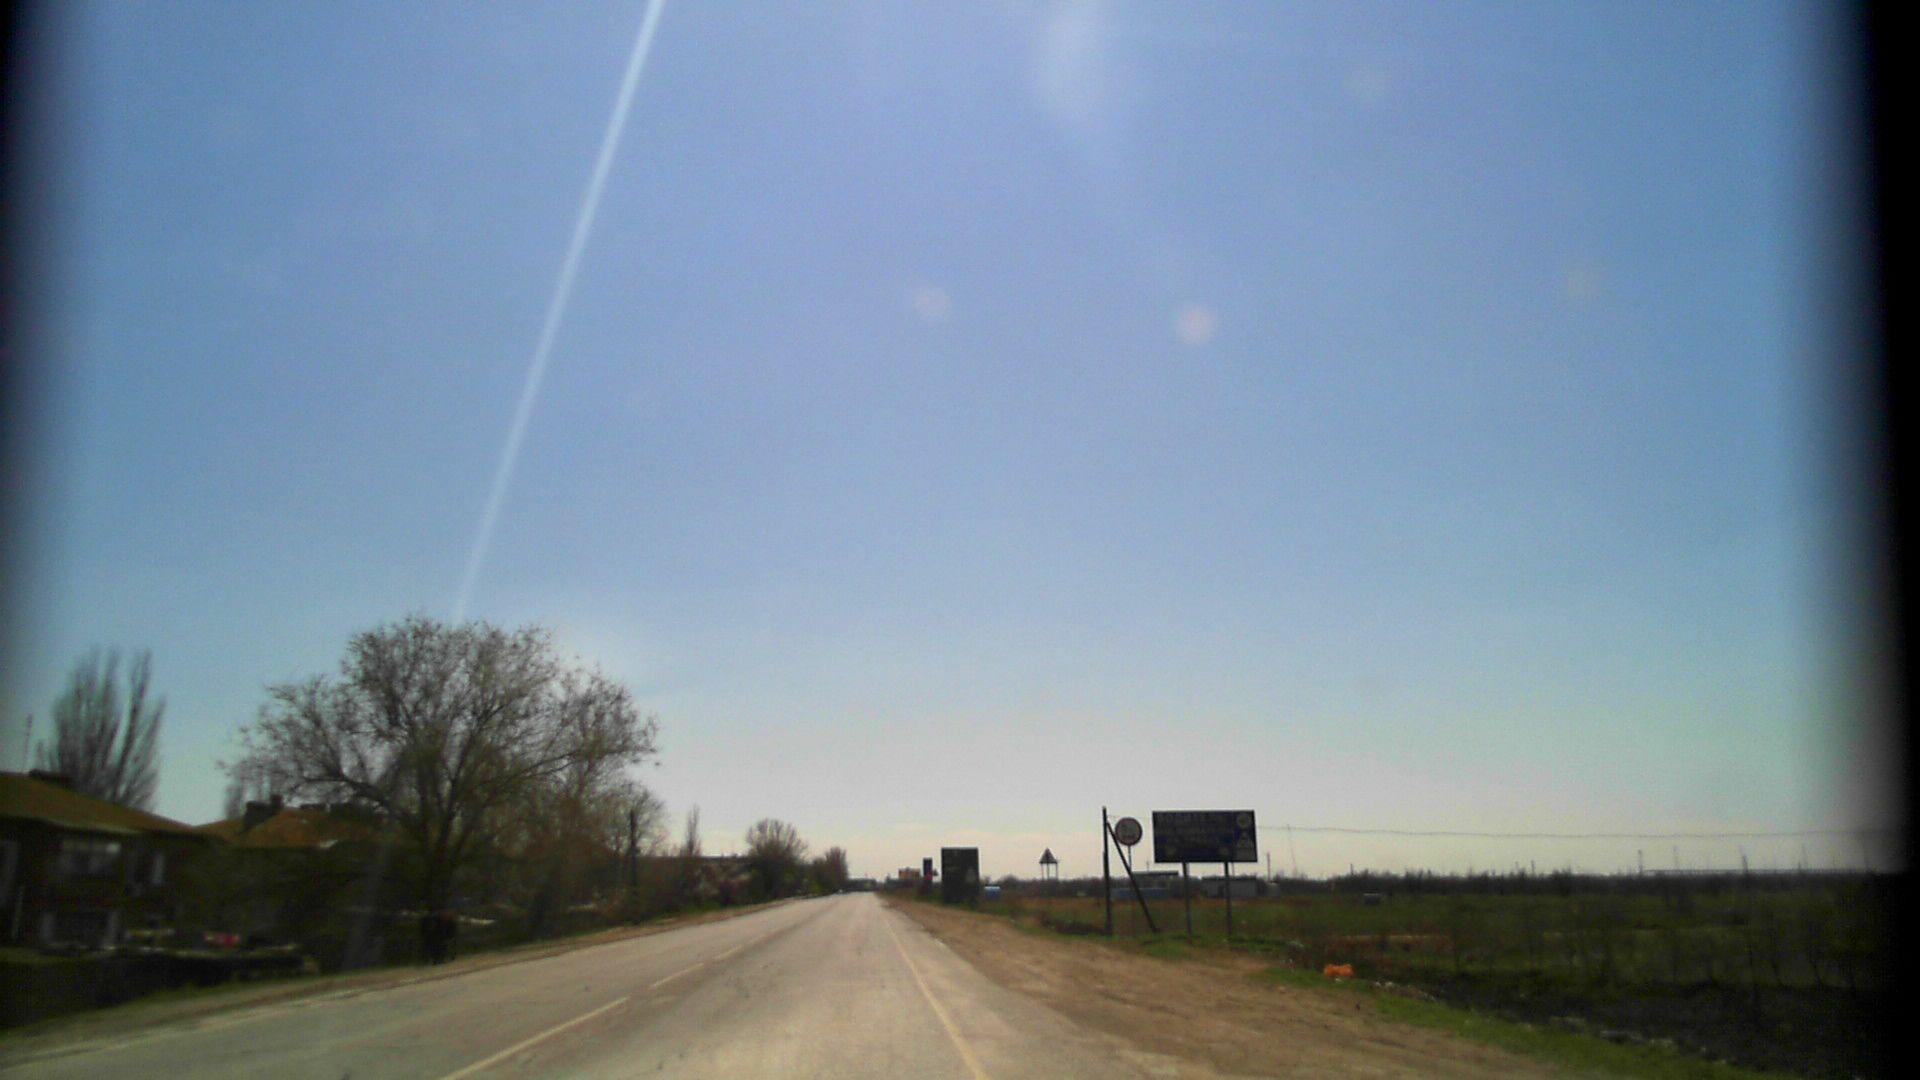3_12: (1113, 814, 1145, 849)
